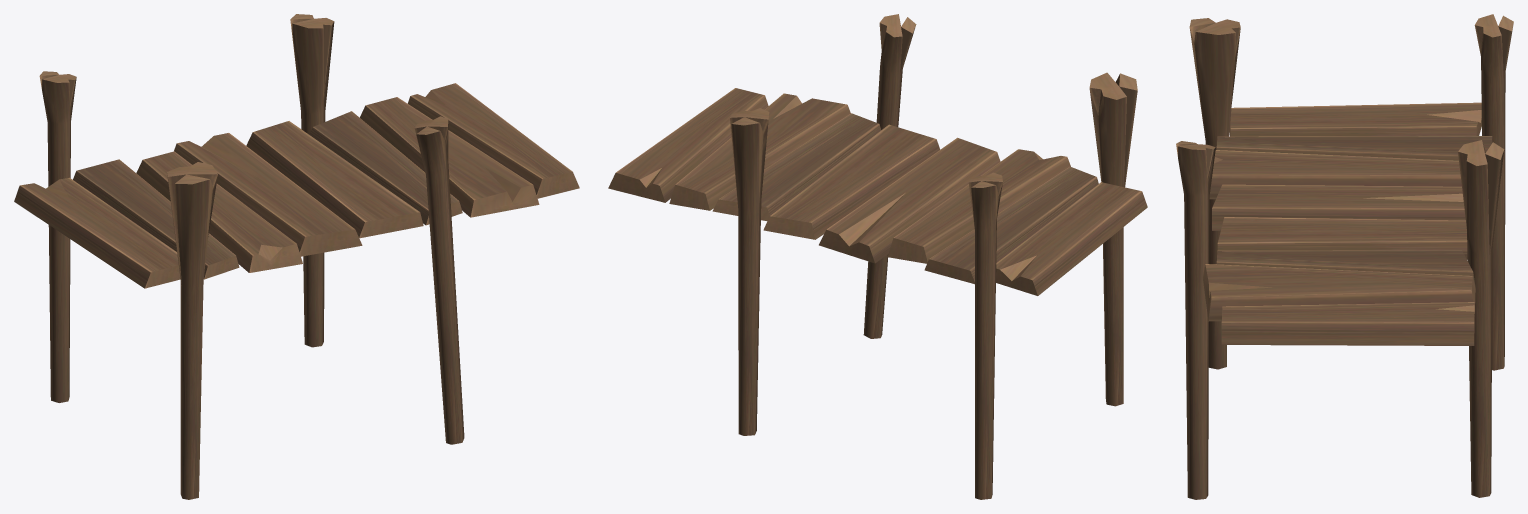
Rendered from A_HA_GEN_Jetty_01.fbx.
3 renders of one model, left to right at view 1: azimuth 30°, elevation 25°; view 2: azimuth 150°, elevation 25°; view 3: azimuth 270°, elevation 25°, orthographic. The views are drawn at different scales.
Visible parts, largest first — view 1: A_CA_GEN_Jetty_01; view 2: A_CA_GEN_Jetty_01; view 3: A_CA_GEN_Jetty_01.
Part boxes in pixels (left/top/right/bottom): A_CA_GEN_Jetty_01: left=14, top=14, right=579, bottom=499; A_CA_GEN_Jetty_01: left=608, top=14, right=1147, bottom=499; A_CA_GEN_Jetty_01: left=1176, top=14, right=1513, bottom=499.
Bounding box in the file's own units: 390 × 274 × 244.
1 material, 1 textured.
